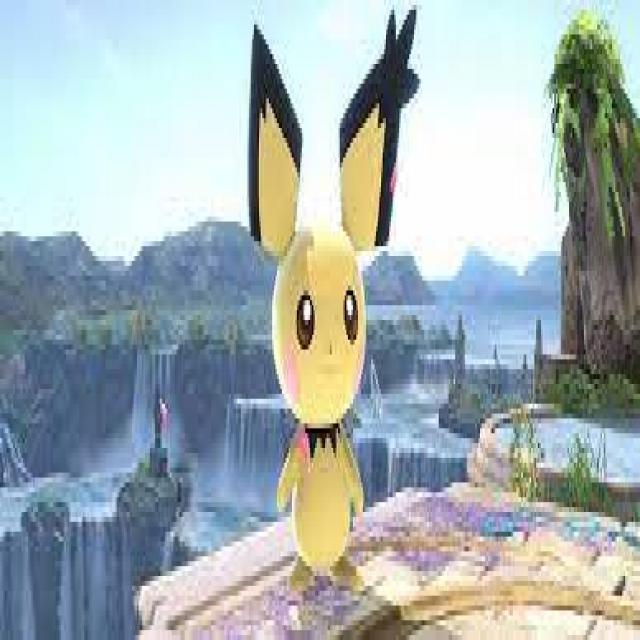pichu: (245, 0, 414, 640)
